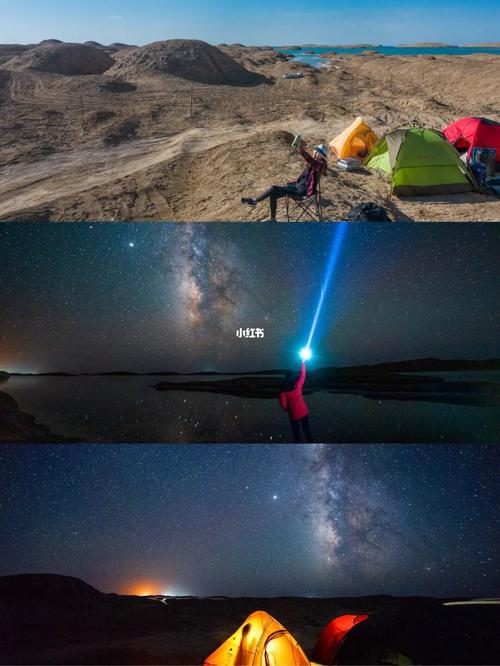mountain: (15, 55, 473, 209)
sky_cloud: (20, 444, 474, 606)
